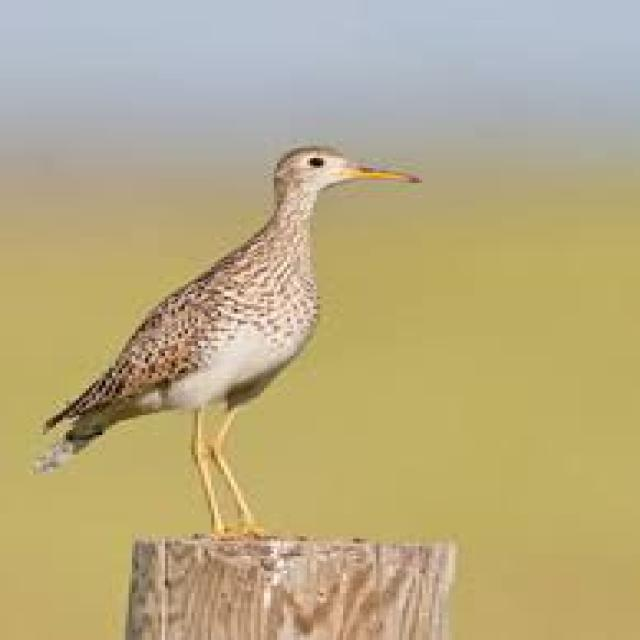Sandpiper: (44, 142, 422, 536)
